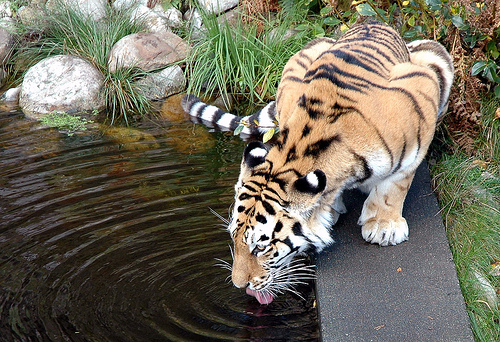Tigre: (185, 33, 475, 299)
